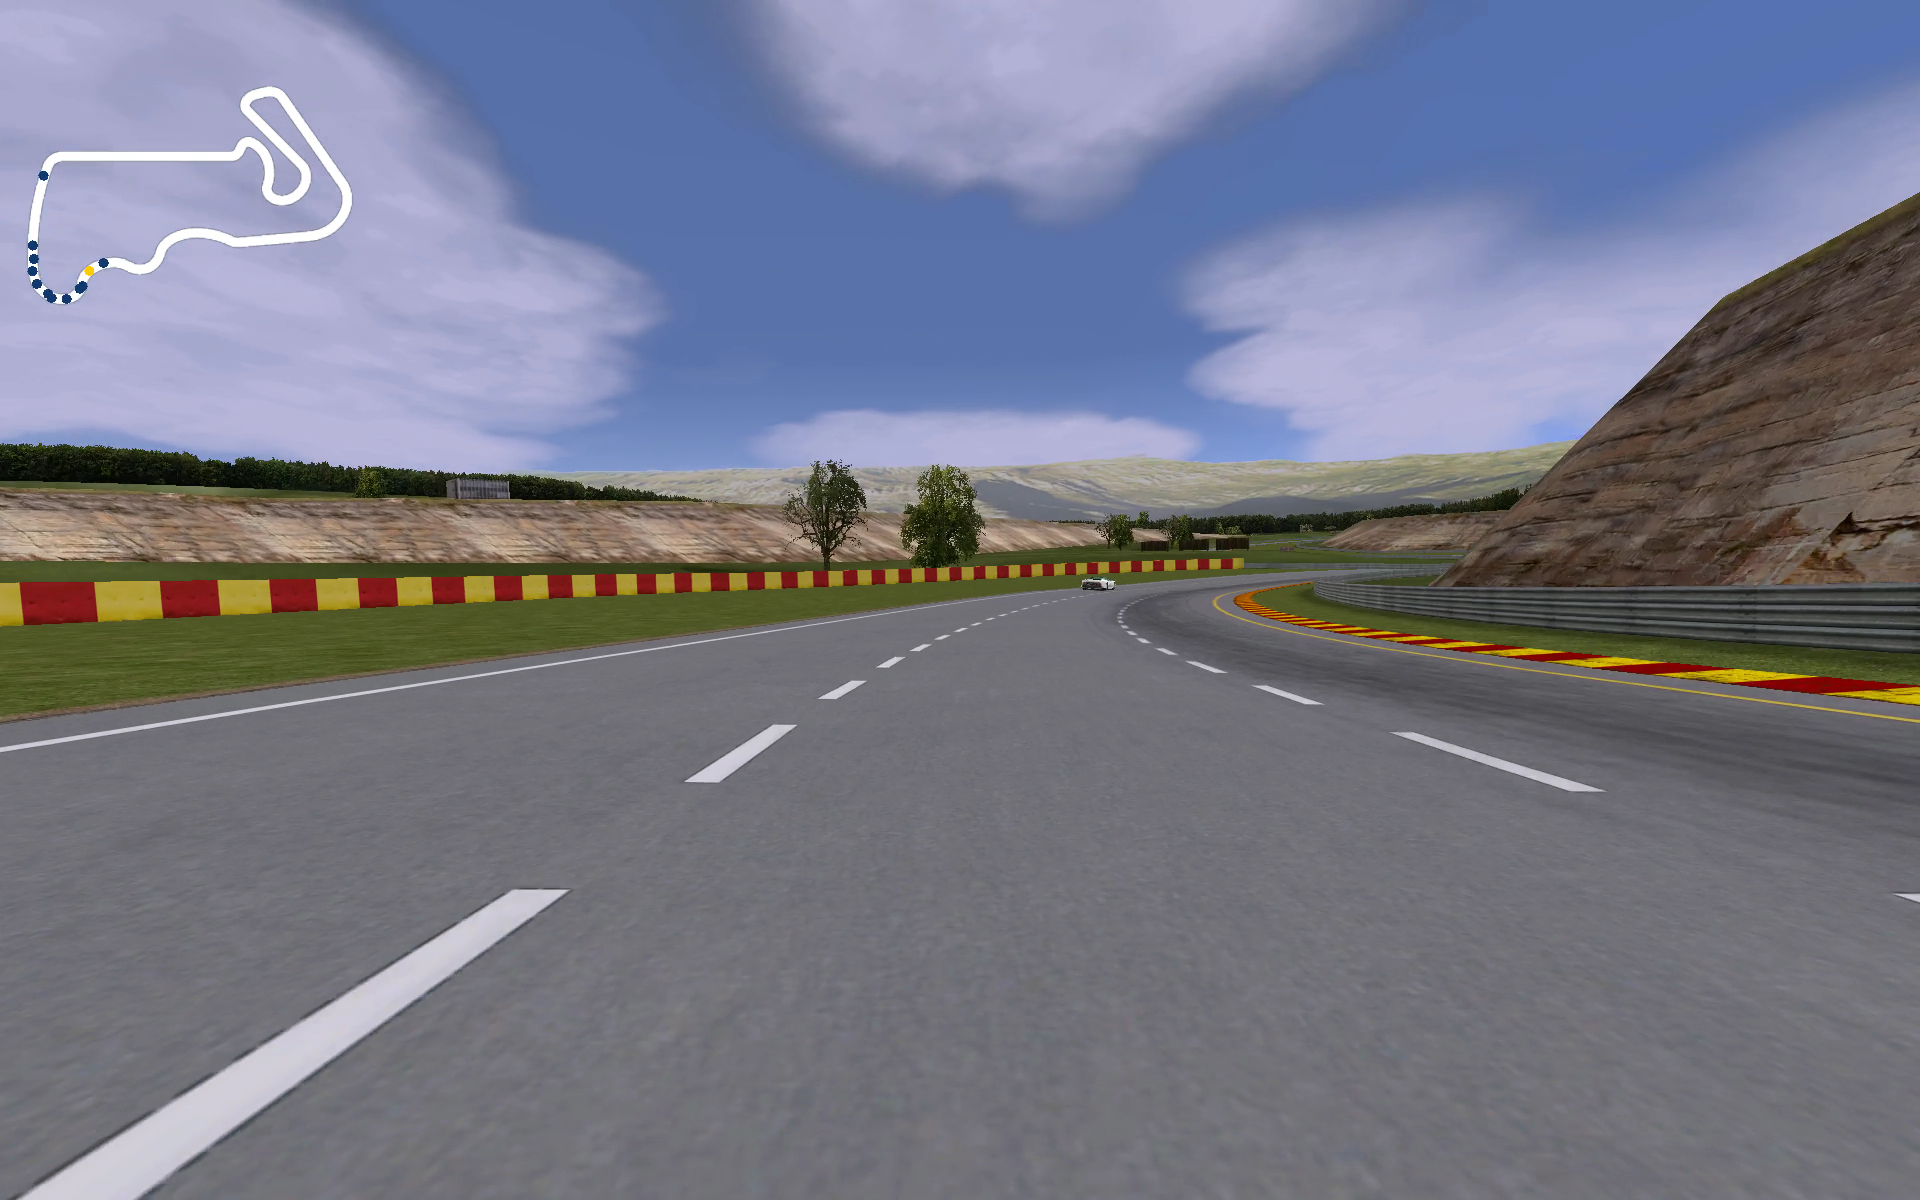car: (1078, 575, 1120, 590)
